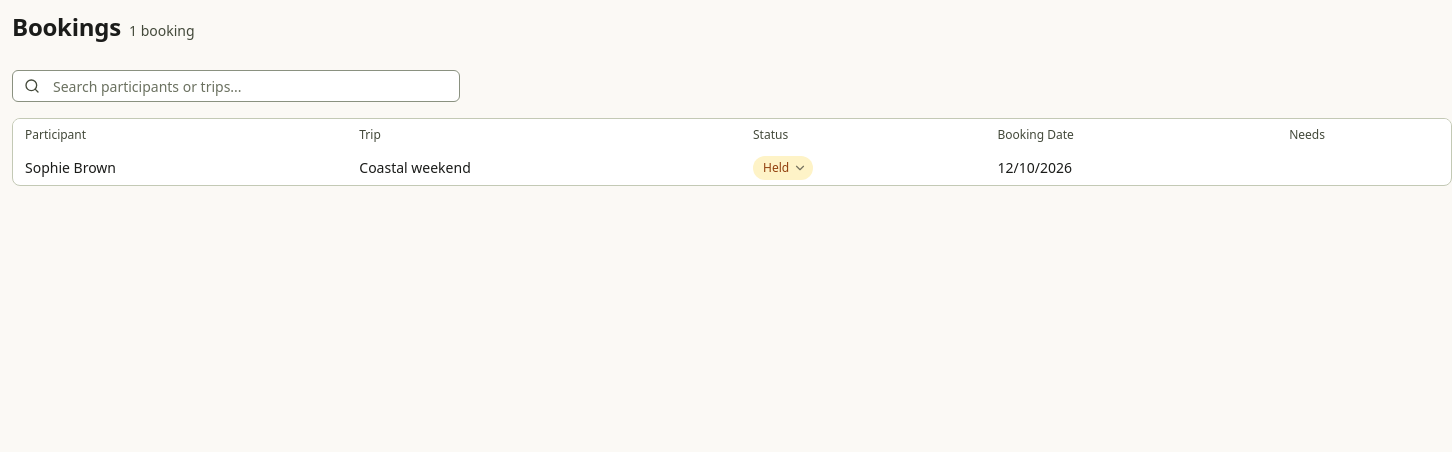
BookingsPage — a refused status change › shows the server message, naming the participant
Click the button "Held" at [783, 168], box [753,156,813,180]
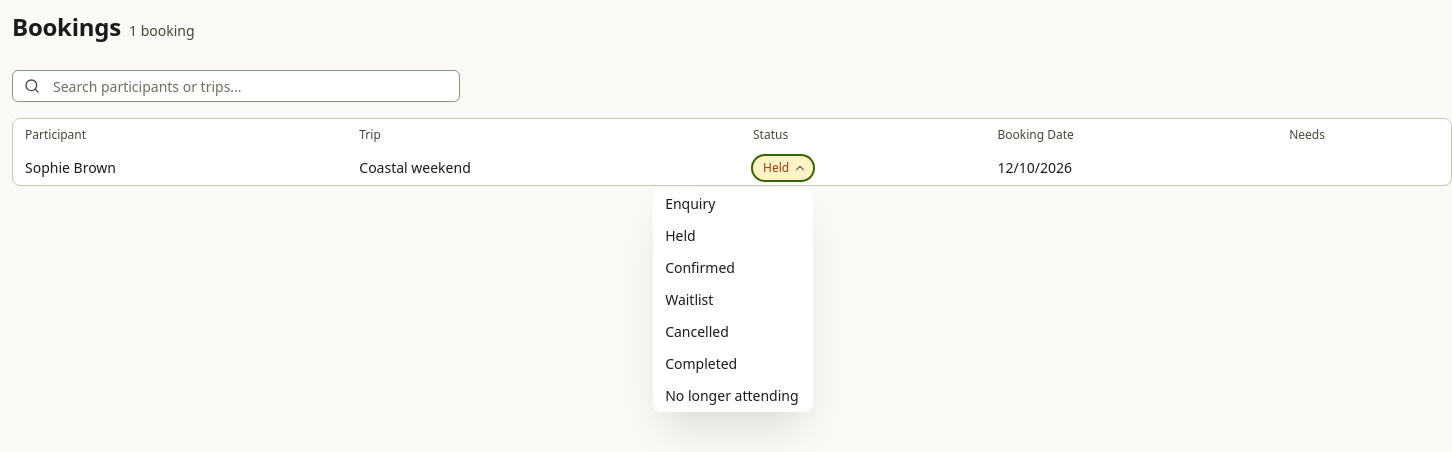
Click the option "Confirmed" at [700, 268], box [665,258,735,277]
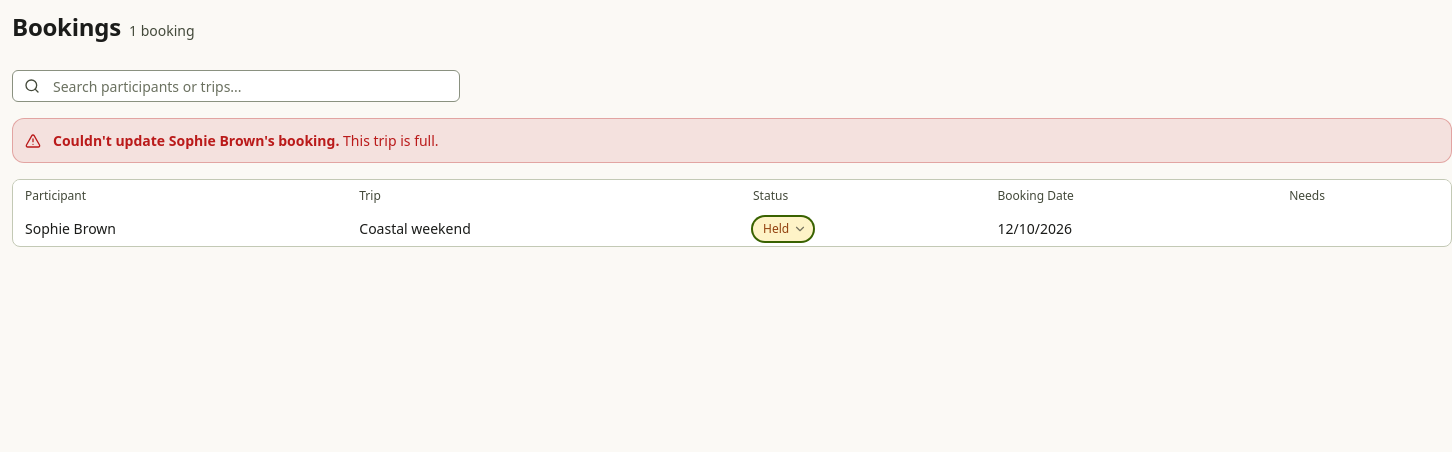
Expected: the text "Couldn't update Sophie Brown's booking." is shown, [53,131,339,150]
Expected: the text "Couldn't update Sophie Brown's booking. This trip is full." is shown, [53,131,439,150]
